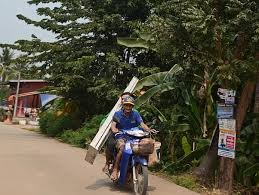no_helmet: (123, 102, 136, 112)
